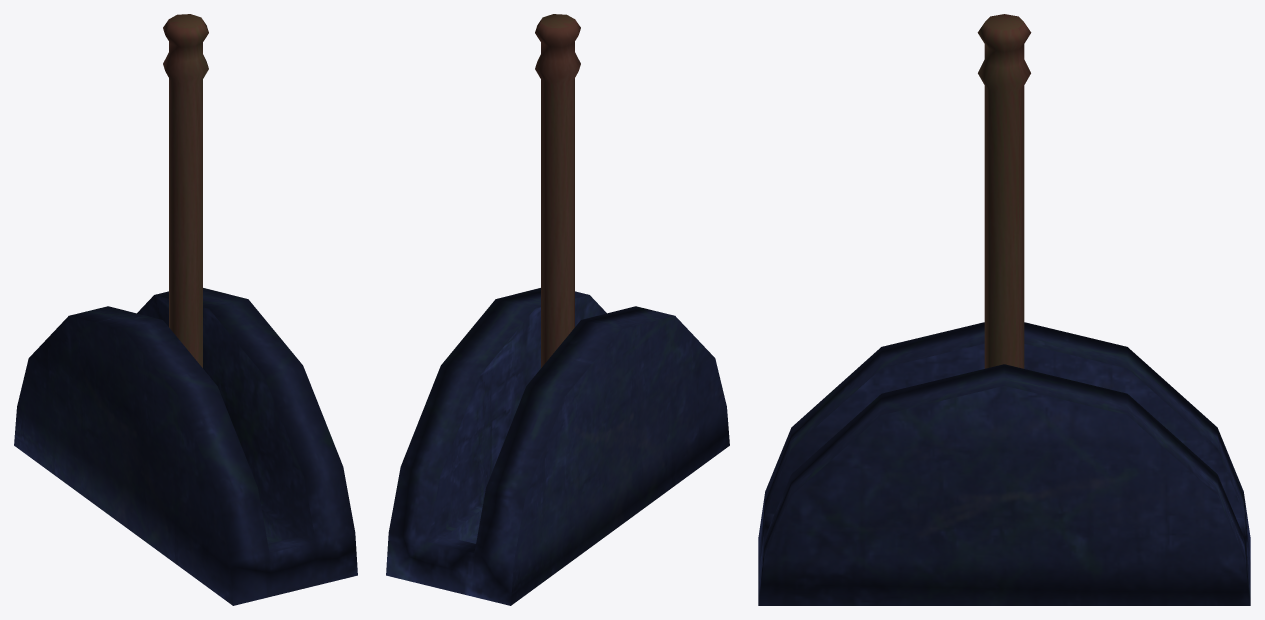
File: Lever.fbx
3 views of the same model, side by side, from view 1: azimuth 30°, elevation 25°; view 2: azimuth 150°, elevation 25°; view 3: azimuth 270°, elevation 25° (orthographic). The views are drawn at different scales.
Visible parts, largest first — view 1: Lever_Contraption_Mesh, Lever_Mesh; view 2: Lever_Contraption_Mesh, Lever_Mesh; view 3: Lever_Contraption_Mesh, Lever_Mesh.
Part boxes in pixels (<box>): Lever_Contraption_Mesh: <box>14,288,357,605</box>; Lever_Mesh: <box>163,14,208,367</box>; Lever_Contraption_Mesh: <box>386,288,729,605</box>; Lever_Mesh: <box>535,14,580,367</box>; Lever_Contraption_Mesh: <box>758,322,1250,605</box>; Lever_Mesh: <box>977,14,1031,368</box>.
Bounding box in the file's own units: 0.8183 × 3.07 × 2.49.
